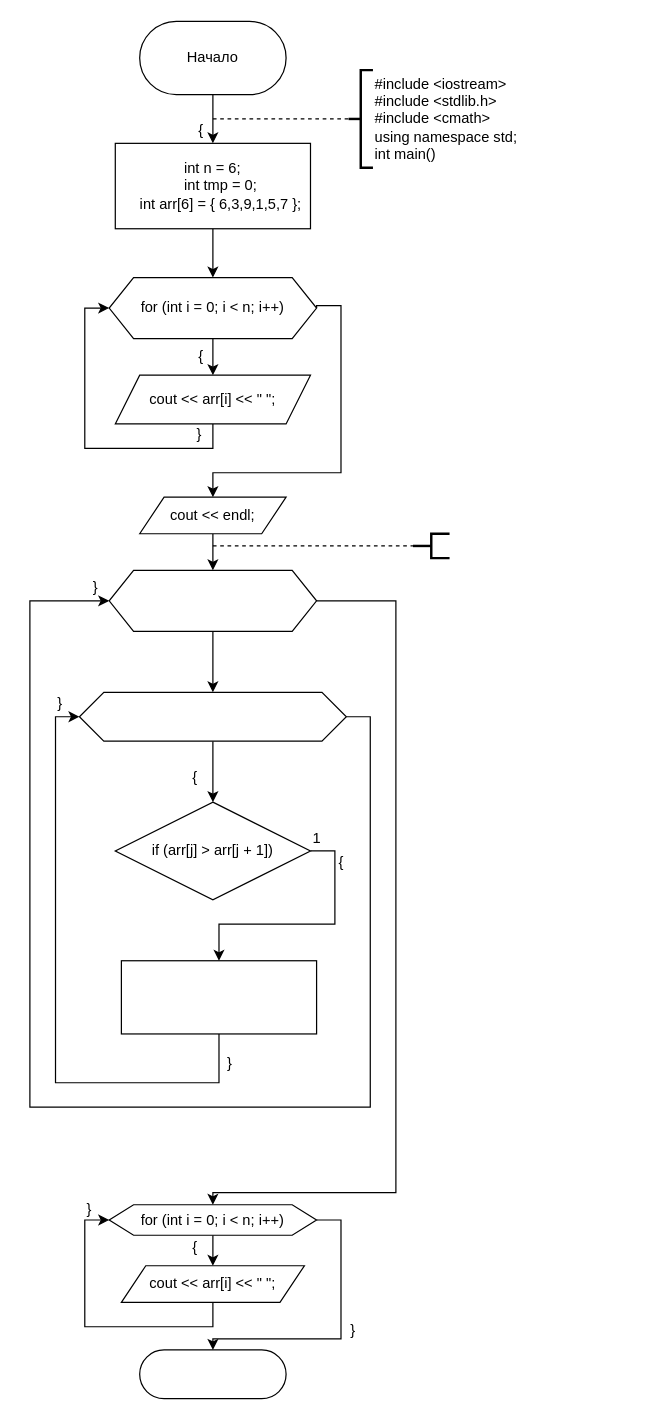
This 656x1420 diagram has some shape labels left out. Each missing label, with the centre of its shape:
"(int i = 0; i < n - 1; i++)" goes at pixel 212 600.
"// Пузырьковая сортировка" goes at pixel 430 545.
"for (int j = 0; j < n - 1 - i; j++)" goes at pixel 212 716.
"tmp = arr[j]; arr[j] = arr[j + 1]; arr[j + 1] = tmp;" goes at pixel 218 997.
"Конец" goes at pixel 212 1374.
